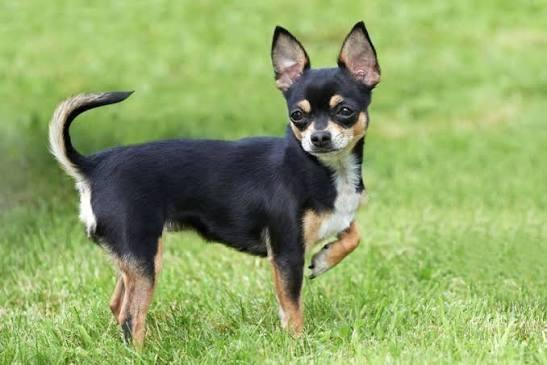adult_dog: (49, 20, 381, 352)
